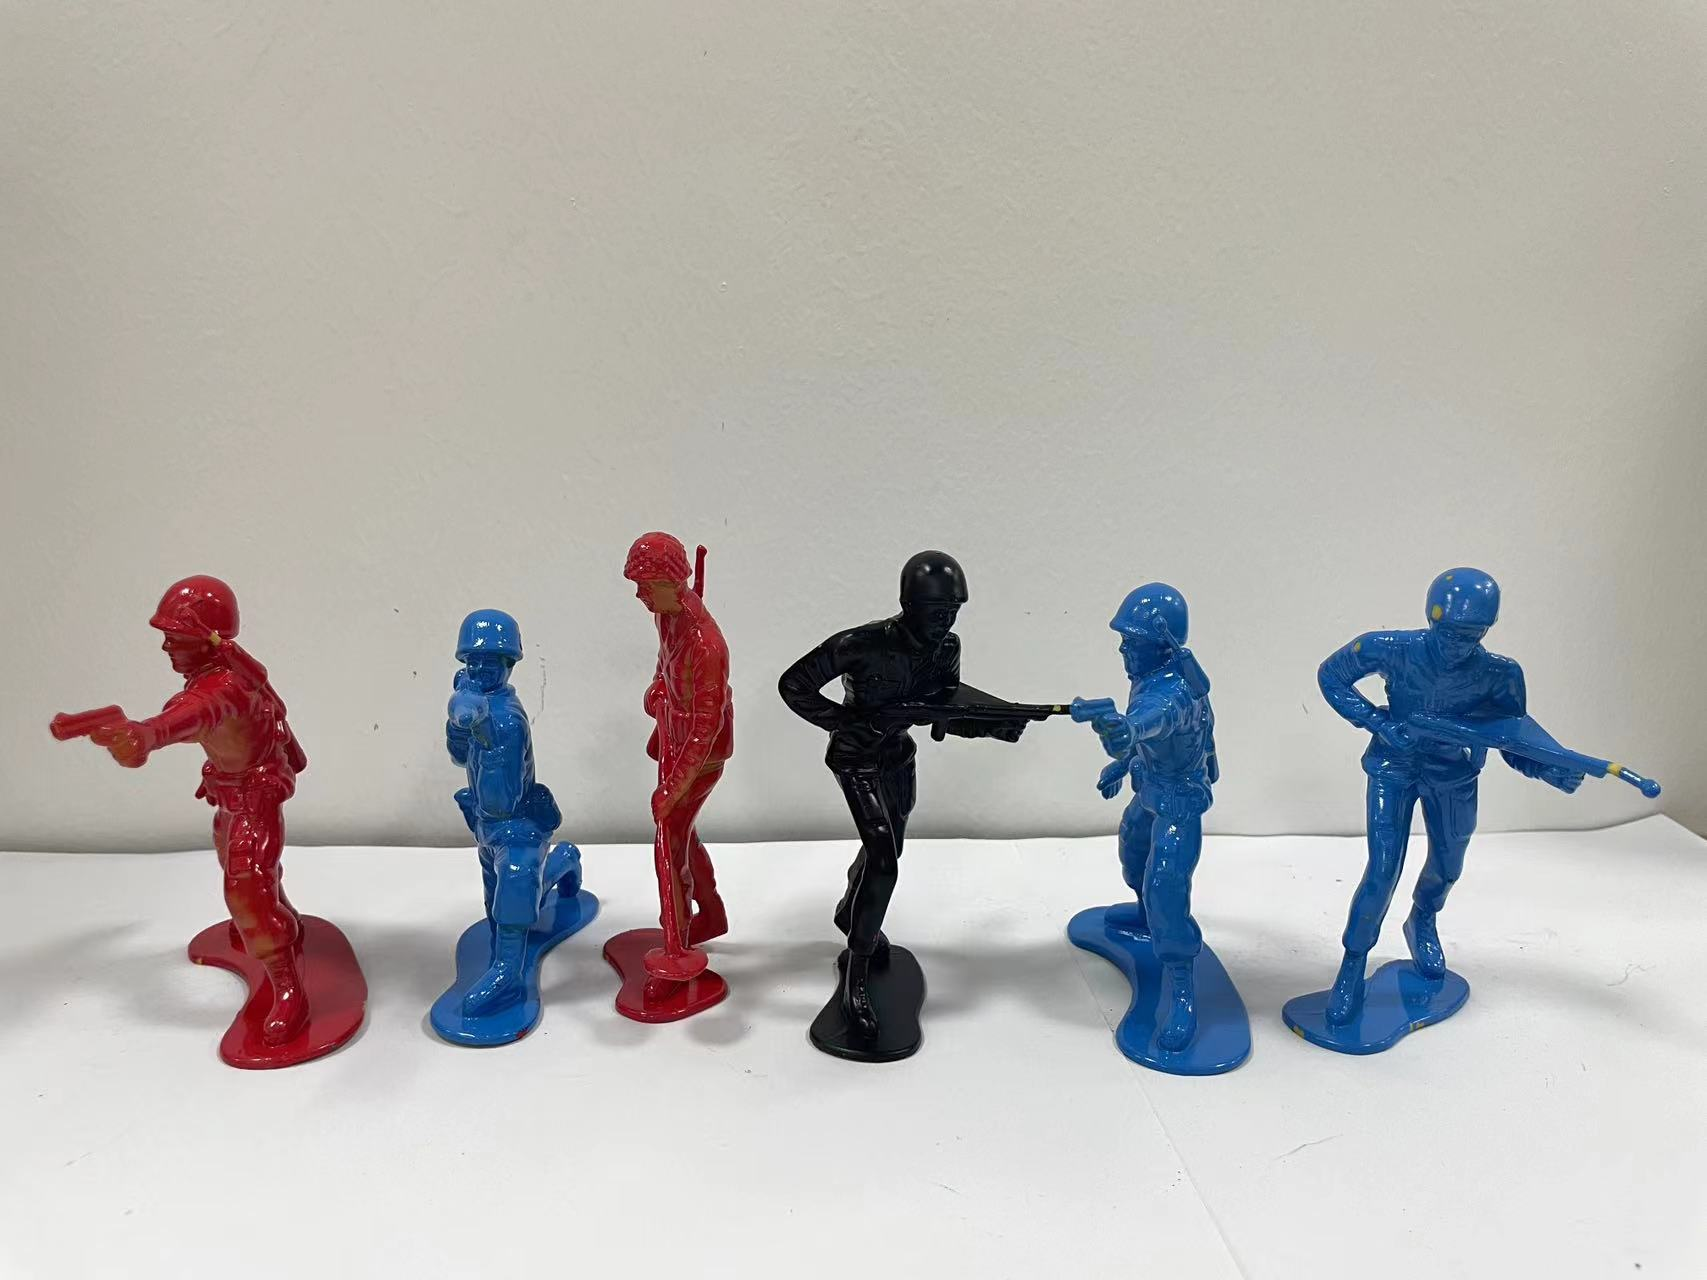black: (759, 524, 1050, 1121)
blue: (1281, 519, 1683, 1094), (1047, 555, 1269, 1137), (394, 563, 610, 1062)
red: (40, 528, 388, 1107), (608, 475, 759, 1074)
